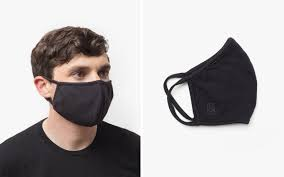FaceMask: (52, 79, 113, 127)
